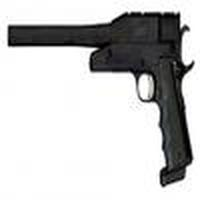gun: (1, 8, 198, 197)
